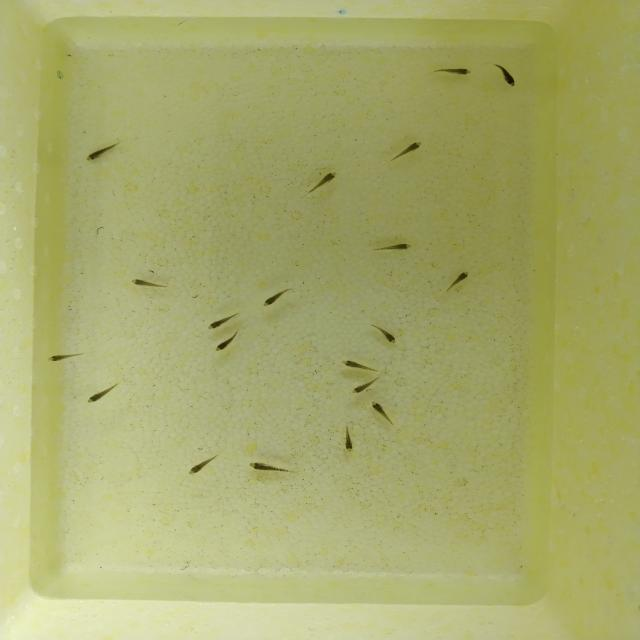fingerling: (77, 136, 126, 170), (300, 167, 345, 200), (384, 135, 428, 167), (178, 452, 223, 481), (366, 319, 407, 350), (439, 266, 479, 296), (489, 58, 522, 92), (366, 236, 418, 257), (82, 380, 121, 408), (361, 400, 402, 426), (200, 308, 239, 335), (243, 456, 293, 477), (258, 284, 294, 312), (425, 62, 475, 82), (124, 273, 170, 292), (339, 378, 381, 398), (335, 356, 381, 374), (44, 349, 93, 365), (210, 334, 240, 357), (338, 422, 358, 456)
